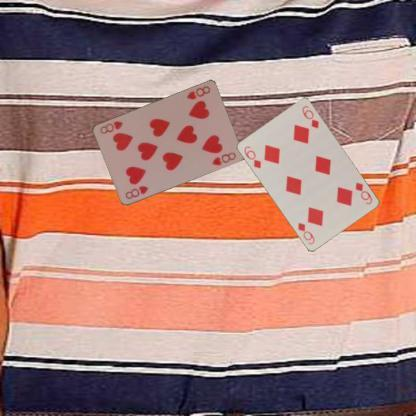6d: (353, 180, 374, 206), (242, 143, 262, 170)
8h: (122, 183, 150, 201), (184, 83, 212, 101)
